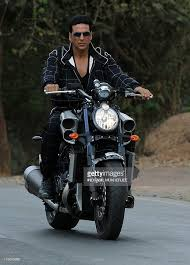no_helmet: (69, 23, 94, 54)
